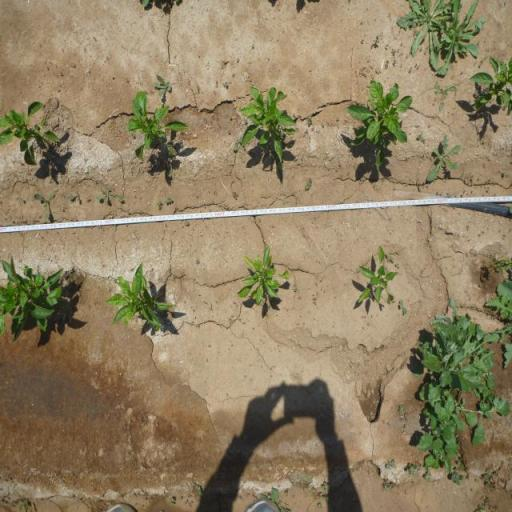plant: (344, 77, 414, 172), (0, 249, 67, 342), (106, 260, 176, 334), (124, 91, 190, 161), (238, 84, 297, 162), (0, 99, 62, 167), (234, 243, 290, 307), (469, 54, 512, 116), (355, 244, 394, 304)
weed: (415, 380, 512, 468), (419, 314, 499, 393), (434, 0, 486, 75), (396, 0, 450, 69), (485, 276, 512, 363), (425, 132, 464, 184), (432, 82, 457, 112), (34, 191, 55, 222), (96, 185, 126, 205), (450, 456, 468, 484), (153, 73, 173, 98), (482, 464, 499, 488), (317, 480, 335, 502), (489, 256, 512, 272), (191, 480, 206, 502), (405, 460, 422, 478), (18, 496, 34, 512), (64, 189, 82, 203), (380, 477, 398, 491), (270, 483, 282, 503), (277, 498, 291, 512), (481, 494, 494, 508), (232, 136, 242, 154), (423, 467, 433, 485), (384, 457, 399, 469), (398, 298, 408, 316), (304, 176, 314, 190), (306, 481, 316, 494), (416, 131, 426, 143), (384, 252, 394, 264), (306, 114, 314, 127), (372, 35, 380, 48), (166, 166, 174, 178), (168, 496, 176, 507), (164, 196, 173, 205), (156, 201, 164, 210), (389, 47, 397, 56), (292, 280, 298, 292), (500, 170, 510, 177), (232, 190, 238, 200), (229, 316, 235, 326), (60, 205, 67, 213), (383, 60, 390, 68), (460, 189, 466, 197), (398, 404, 404, 412), (316, 501, 322, 509), (182, 220, 190, 226), (312, 298, 317, 306), (284, 488, 288, 498), (224, 82, 230, 88), (394, 262, 400, 268), (20, 197, 25, 203), (408, 66, 412, 73), (393, 60, 397, 66), (400, 416, 404, 422), (404, 423, 408, 429), (86, 197, 90, 202), (195, 260, 200, 264)
